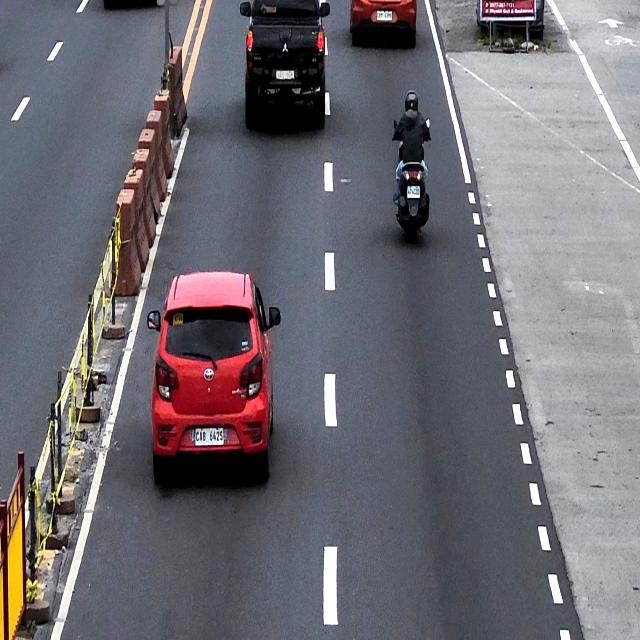Car: (147, 270, 280, 489), (240, 0, 330, 128), (350, 0, 418, 52)
License-Plate: (194, 428, 224, 447), (407, 185, 420, 199), (276, 70, 294, 80), (377, 11, 392, 21)
Motorcycle: (393, 118, 431, 246)
